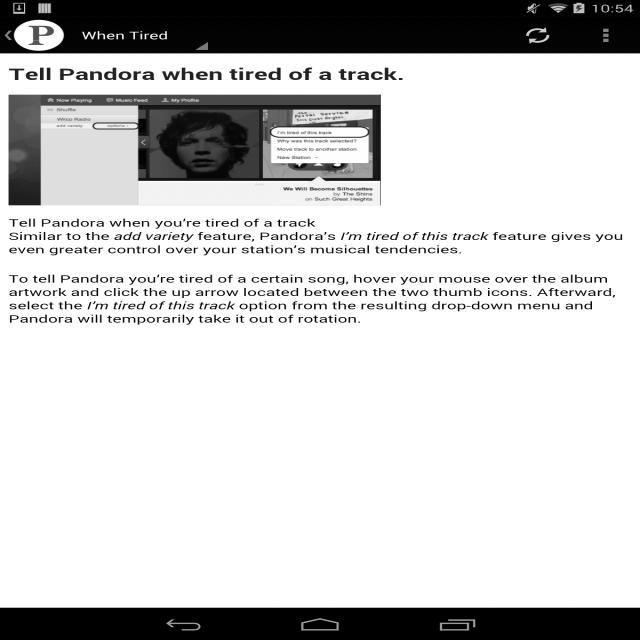ImageButton: (591, 25, 622, 47), (522, 26, 554, 45)
ImageView: (9, 96, 382, 206), (13, 19, 65, 51)
TextView: (2, 270, 619, 314), (6, 215, 628, 256), (4, 64, 406, 85), (81, 28, 176, 42)
